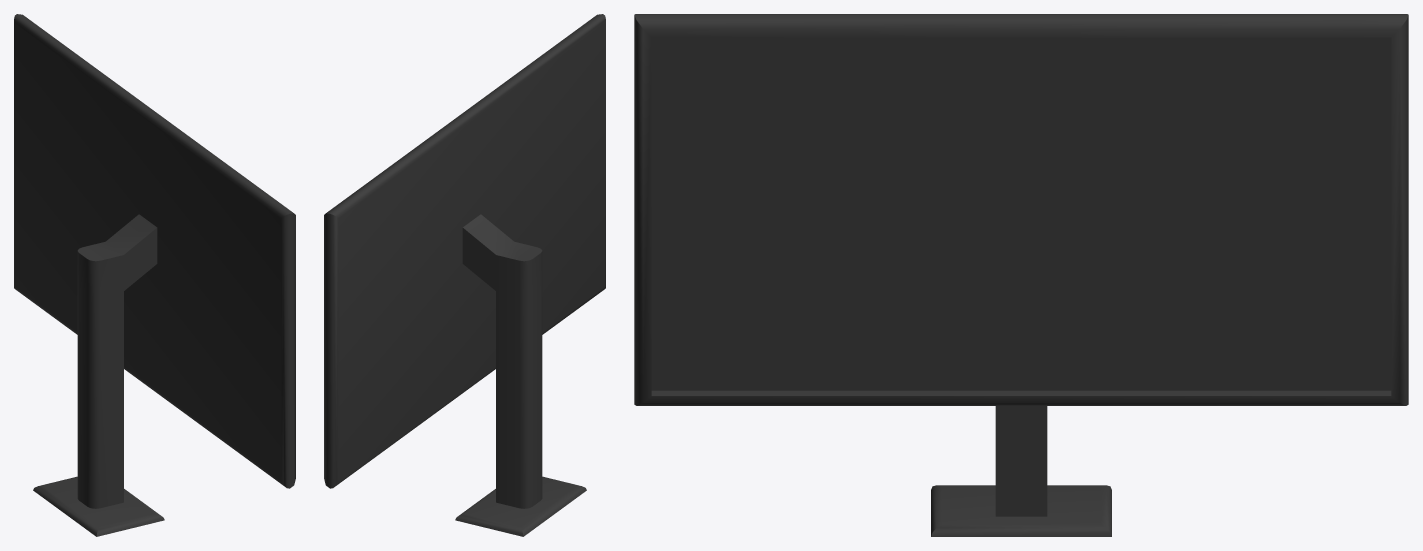
The model's file is Screen.glb.
3 views of the same model, side by side, from view 1: azimuth 30°, elevation 25°; view 2: azimuth 150°, elevation 25°; view 3: azimuth 270°, elevation 25° (orthographic). The views are drawn at different scales.
Parts seen in each view (by area): view 1: Cube.2; view 2: Cube.2; view 3: Cube.2.
Boxes of the visible parts, x1,y1,x2,y2 form: Cube.2: [14, 14, 295, 536]; Cube.2: [324, 14, 605, 536]; Cube.2: [634, 14, 1408, 536].
Size of the model in its own units: 3.27 by 11.91 by 15.58.
1 material, 1 textured.
